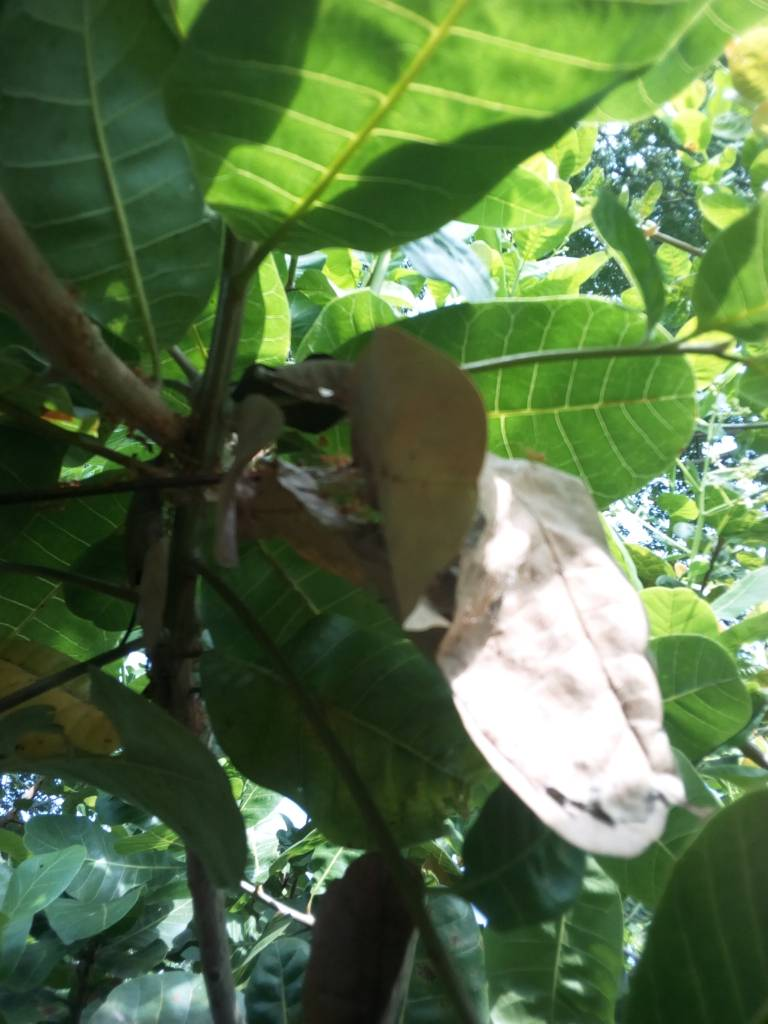Dessèchement des bourgeons: (209, 354, 340, 466)
